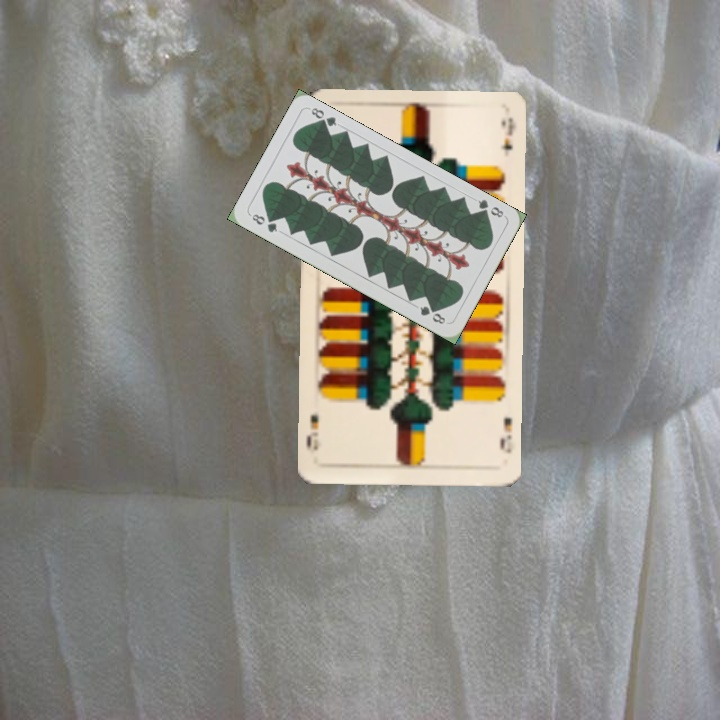E9: (496, 414, 515, 456)
G8: (248, 210, 280, 235), (474, 195, 506, 220)
